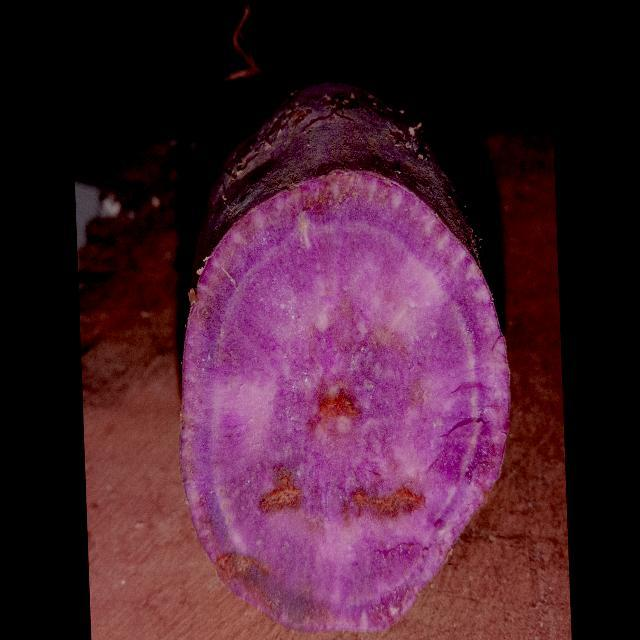Sick Sweet Potato_Tuber Rot: (181, 172, 509, 630)
